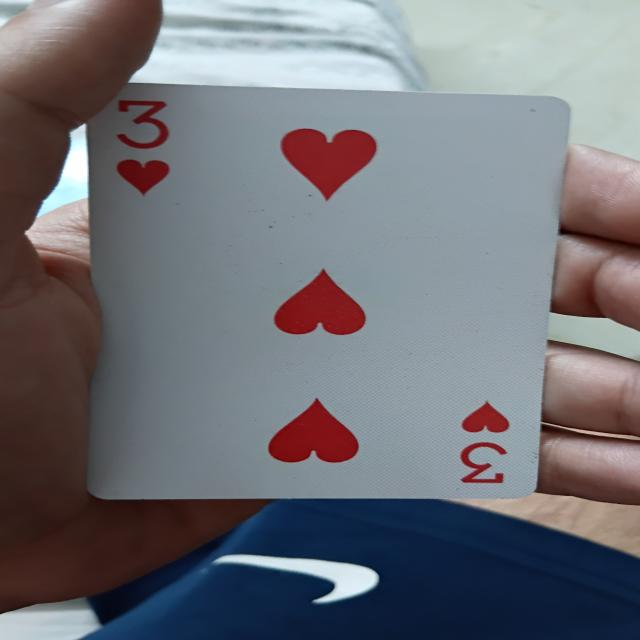3H: (84, 83, 538, 501)
